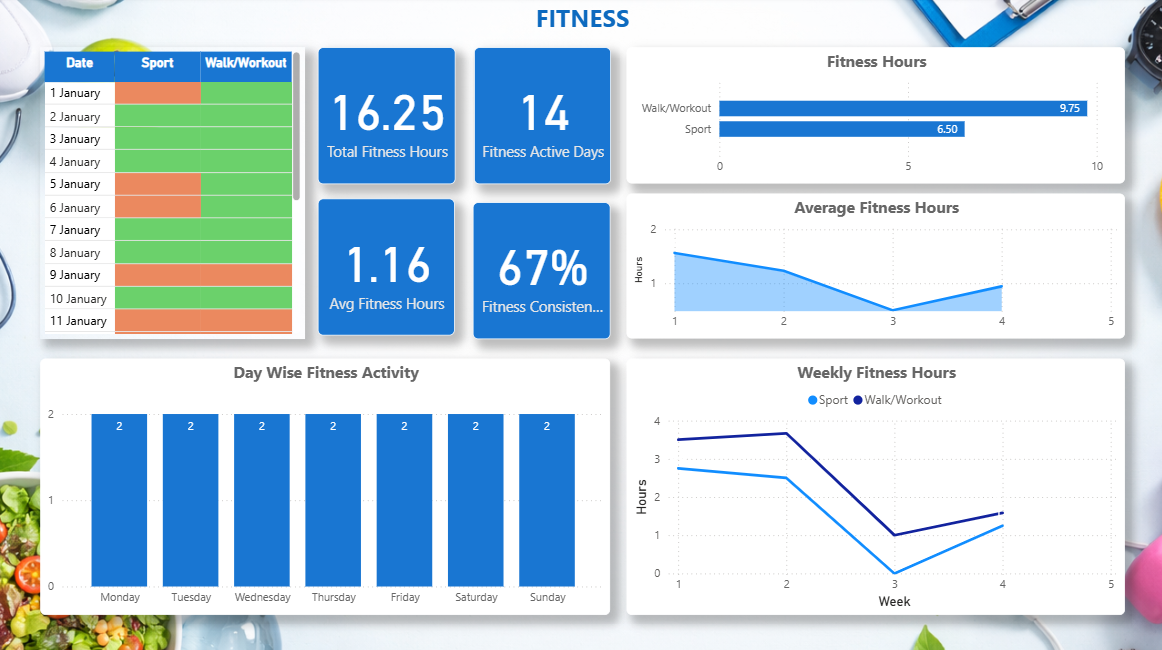

The dashboard page shown, as its layout file describes it:
{"tool":"powerbi","page":{"name":"Fitness","canvas":[1280,720],"ordinal":1},"visuals":[{"type":"pivotTable","fields":{"Values":["Sum(JAN.Is_completed)"],"Rows":["DateTable.Date"],"Columns":["Habit Category.Habit Display"]},"box":[45.3,56.3,290.9,319.7],"z":0},{"type":"card","fields":{"Values":["DateTable.Total Fitness Minutes"]},"box":[349.9,56.3,150.9,150],"z":1000},{"type":"card","fields":{"Values":["DateTable.Fitness Active Days"]},"box":[521.4,56.3,150,150],"z":2000},{"type":"card","fields":{"Values":["DateTable.Avg Fitness Minutes / Active Day"]},"box":[349.9,222.3,150,150],"z":3000},{"type":"clusteredBarChart","title":"Fitness Hours","fields":{"Y":["DateTable.Total Fitness Hours"],"Category":["Habit Category.Habit Display"]},"box":[688.9,56.3,547.5,149.6],"z":4000},{"type":"clusteredColumnChart","title":"Day Wise Fitness Activity","fields":{"Y":["DateTable.Fitness Active Days (Weekly)"],"Category":["DateTable.DayName"]},"box":[45.3,397.9,625.7,281.3],"z":5000},{"type":"lineChart","title":"Weekly Fitness Hours","fields":{"Category":["DateTable.Week"],"Y":["DateTable.Fitness Hours (Weekly)"],"Series":["Habit Category.Habit Display"]},"box":[688.9,397.9,547.5,281.3],"z":6000},{"type":"textbox","box":[45.3,0,1191.1,56.3],"z":7000},{"type":"card","fields":{"Values":["DateTable.Fitness Consistency %"]},"box":[520.1,226.4,150.9,150],"z":8000},{"type":"areaChart","title":"Average Fitness Hours","fields":{"Category":["DateTable.Week"],"Y":["DateTable.Avg Fitness Hours"]},"box":[688.9,216.8,547.5,159.2],"z":9000}]}

Visuals, with their boxes in screenshot pixels (x1, y1, x2, y2), scaled from the page's 1280x720 canvas onto the 1162x650 screenshot:
pivotTable - Sum(JAN.Is_completed) x DateTable.Date: l=41, t=51, r=305, b=339
card - DateTable.Total Fitness Minutes: l=318, t=51, r=455, b=186
card - DateTable.Fitness Active Days: l=473, t=51, r=610, b=186
card - DateTable.Avg Fitness Minutes / Active Day: l=318, t=201, r=454, b=336
"Fitness Hours" clusteredBarChart: l=625, t=51, r=1122, b=186
"Day Wise Fitness Activity" clusteredColumnChart: l=41, t=359, r=609, b=613
"Weekly Fitness Hours" lineChart: l=625, t=359, r=1122, b=613
textbox: l=41, t=0, r=1122, b=51
card - DateTable.Fitness Consistency %: l=472, t=204, r=609, b=340
"Average Fitness Hours" areaChart: l=625, t=196, r=1122, b=339
